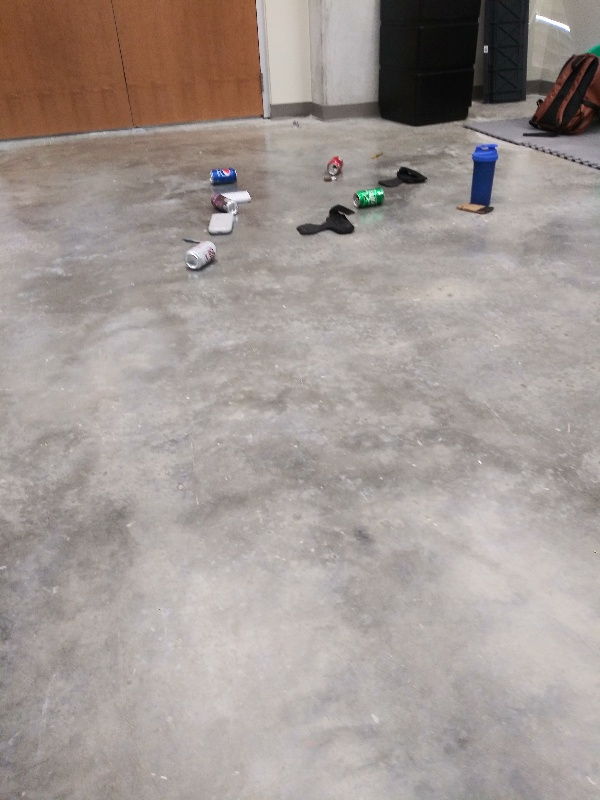can: (181, 238, 218, 270), (352, 186, 389, 209), (208, 191, 239, 215), (206, 166, 239, 184), (326, 152, 344, 178)
